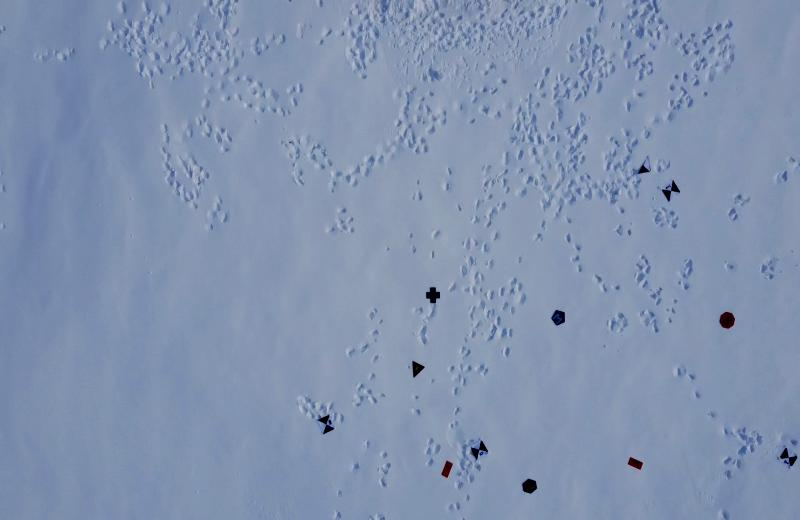Cross: (425, 287, 443, 306)
Hexagon: (520, 478, 538, 496)
Octagon: (718, 309, 736, 330)
Pentagon: (550, 309, 566, 327)
Rectangle: (440, 460, 454, 480), (626, 456, 644, 471)
Triangle: (410, 359, 426, 379)
